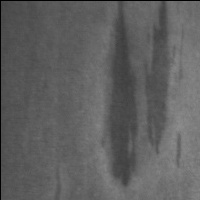inclusion: (97, 2, 142, 189), (141, 2, 175, 160), (51, 157, 67, 200), (172, 131, 186, 170)
